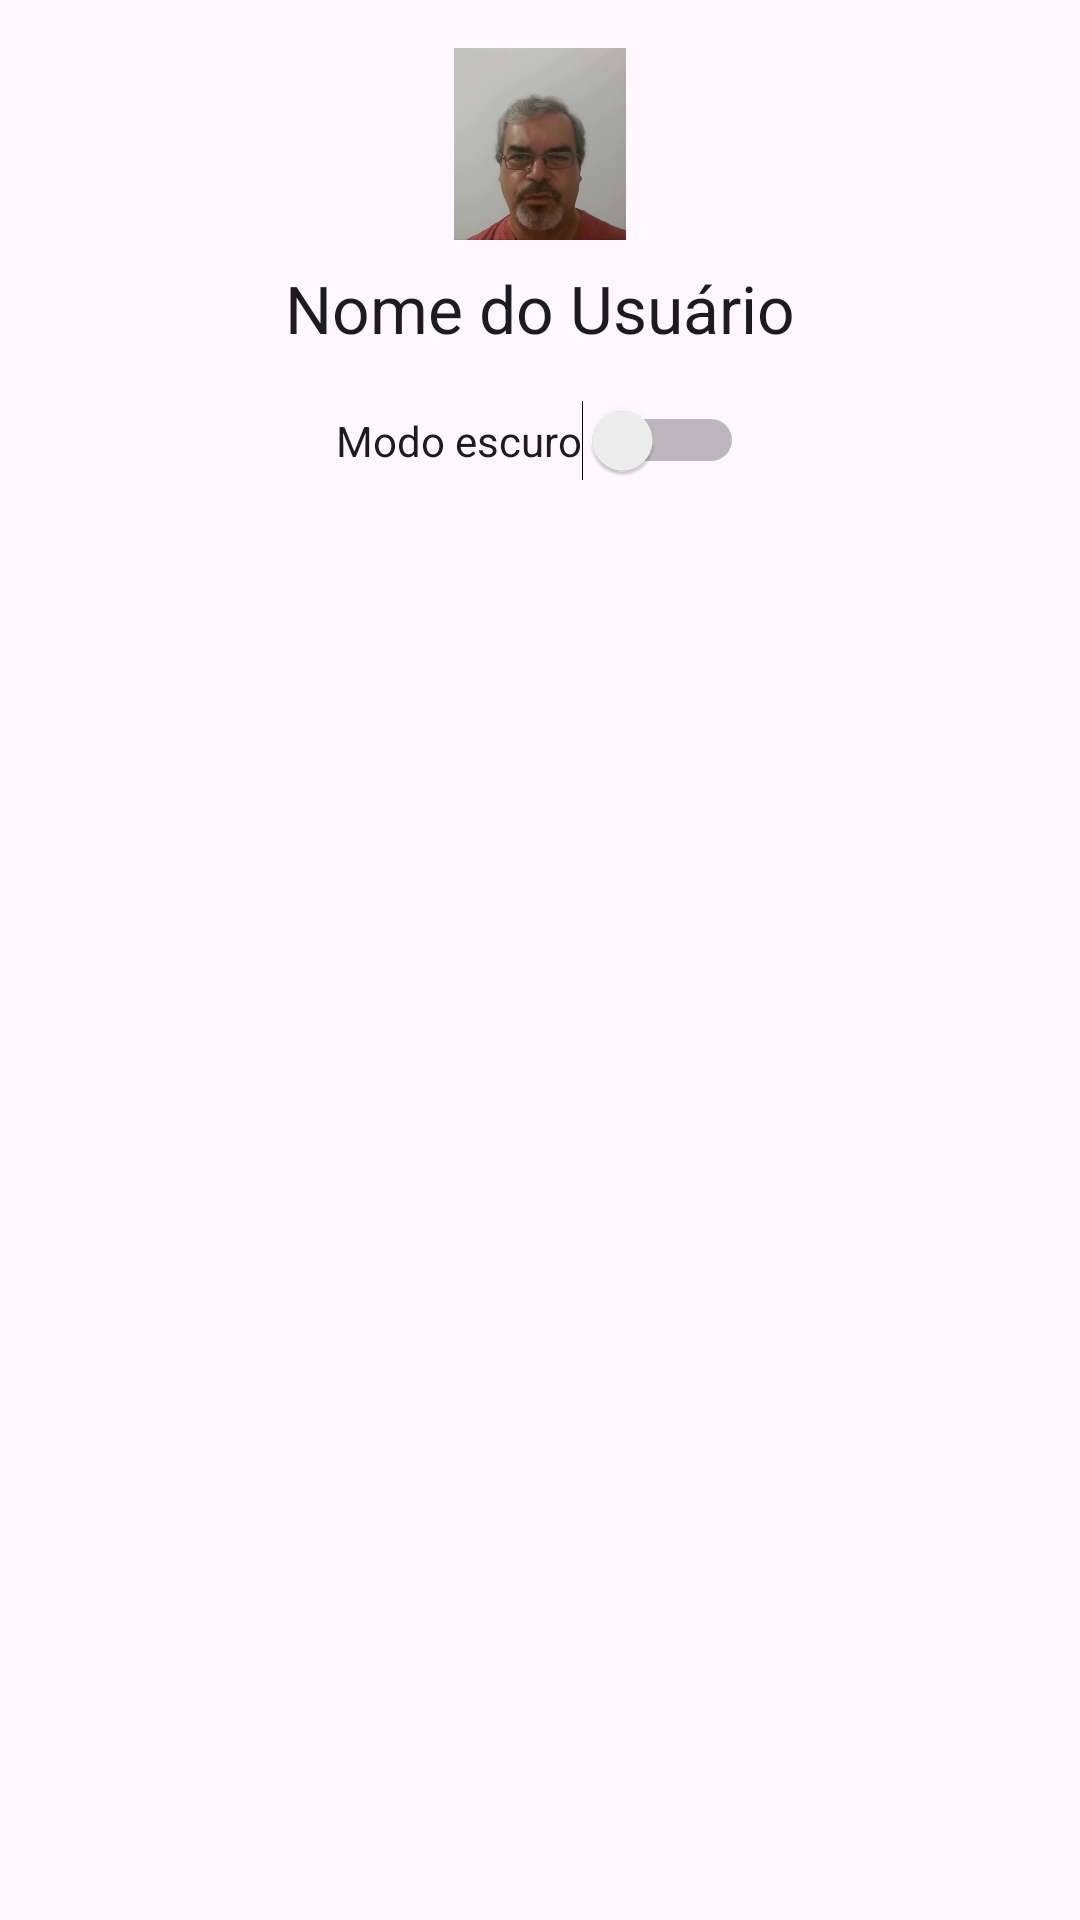

Icons on this 1080w x 1920h Android screen, each with the point to tap as point (x, y):
User image: point (540, 144)
